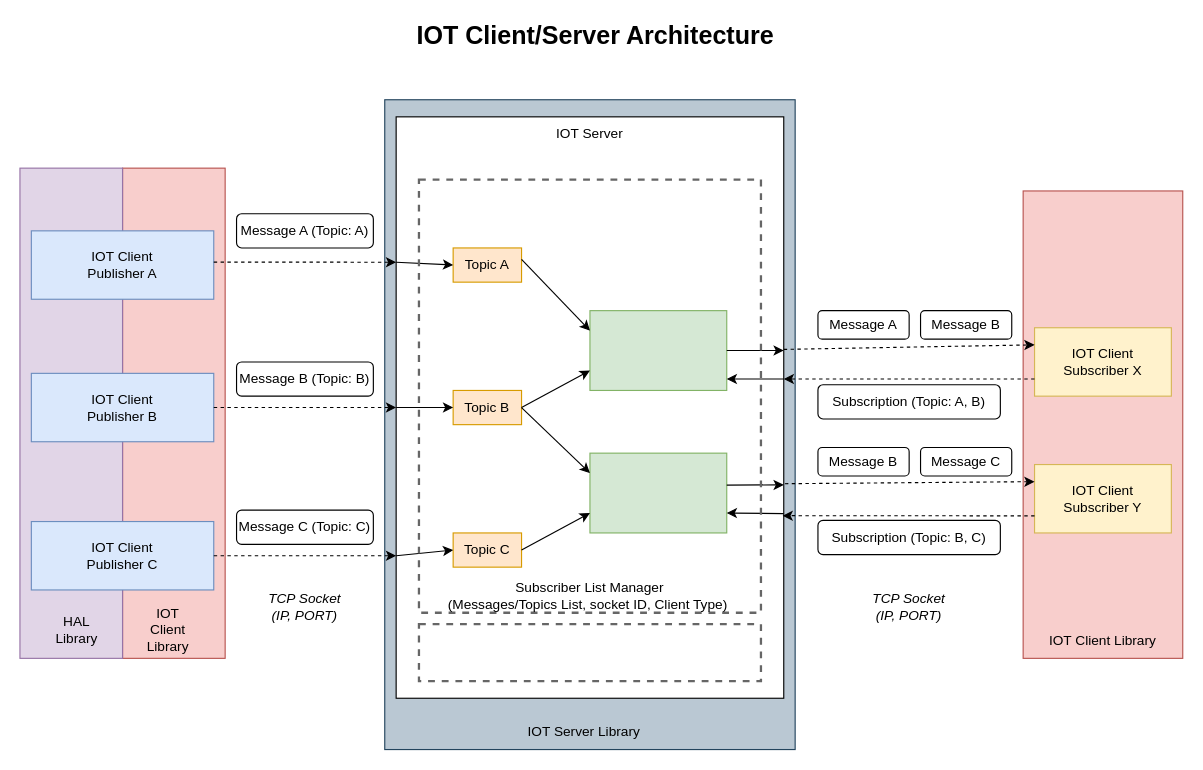
Image size: 1203x770. Some labels were removed from this diagram. The shapes that lost their labels are listed below. From the top down, each one's centre as x and y in pixels, then its label:
At (x=658, y=350): "Subscription X Topic A Topic B".
At (x=658, y=492): "Subscription Y Topic B Topic C".
At (x=589, y=652): "TCP Socket Manager (Socket/Bind/Listen/Accept/Write/Read/Close)".
